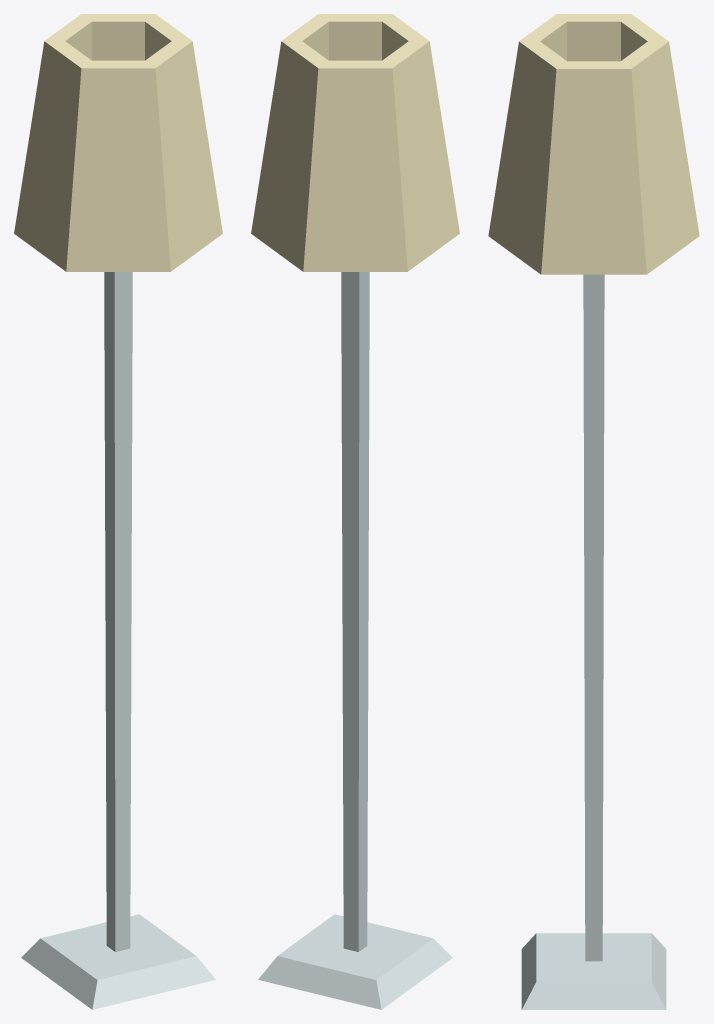
File: lampRoundFloor.gltf
The picture shows the model from 3 angles, left to right: view 1: azimuth 30°, elevation 25°; view 2: azimuth 150°, elevation 25°; view 3: azimuth 270°, elevation 25°; orthographic projection.
Visible parts, largest first — view 1: lampRoundFloor(Clone); view 2: lampRoundFloor(Clone); view 3: lampRoundFloor(Clone).
Boxes of the visible parts, x1,y1,x2,y2 form: lampRoundFloor(Clone): [14, 14, 222, 1009]; lampRoundFloor(Clone): [251, 14, 459, 1009]; lampRoundFloor(Clone): [488, 14, 699, 1009].
Size of the model in its own units: 0.152 by 0.86 by 0.1756.
